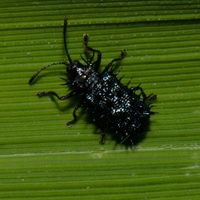insect: (29, 17, 156, 145)
